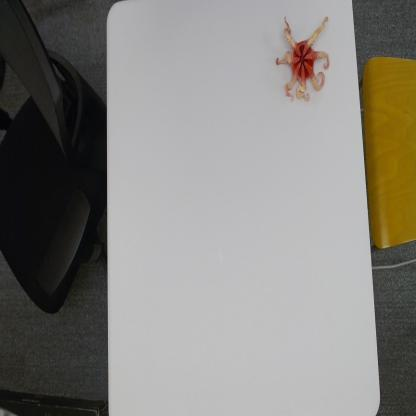Octopus: (274, 12, 332, 104)
